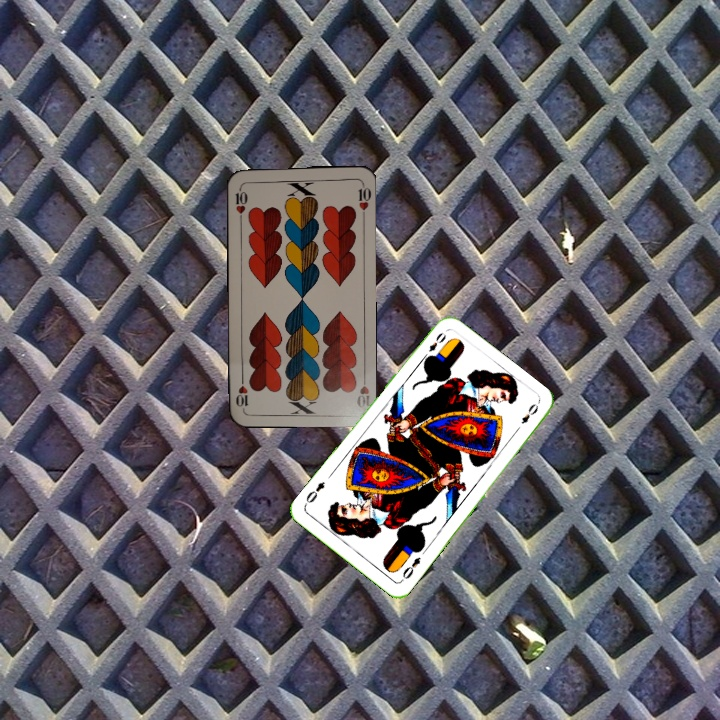EO: (419, 328, 449, 362), (397, 553, 423, 584)
H10: (231, 182, 250, 222), (353, 370, 372, 410)
